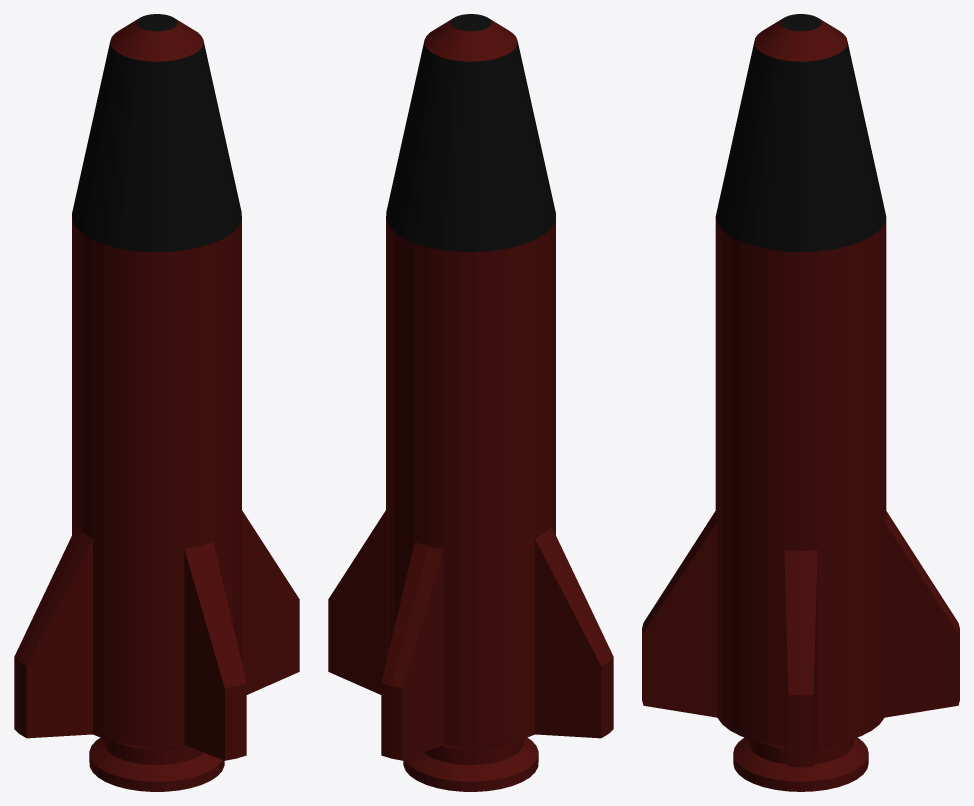
Rendered from enemyMissile.fbx.
3 renders of one model, left to right at view 1: azimuth 30°, elevation 25°; view 2: azimuth 150°, elevation 25°; view 3: azimuth 270°, elevation 25°, orthographic.
Visible parts, largest first — view 1: Cylinder; view 2: Cylinder; view 3: Cylinder.
Boxes of the visible parts, x1,y1,x2,y2 form: Cylinder: [14, 14, 299, 791]; Cylinder: [328, 14, 613, 791]; Cylinder: [642, 14, 959, 791].
Bounding box in the file's own units: 112 × 288 × 112.
